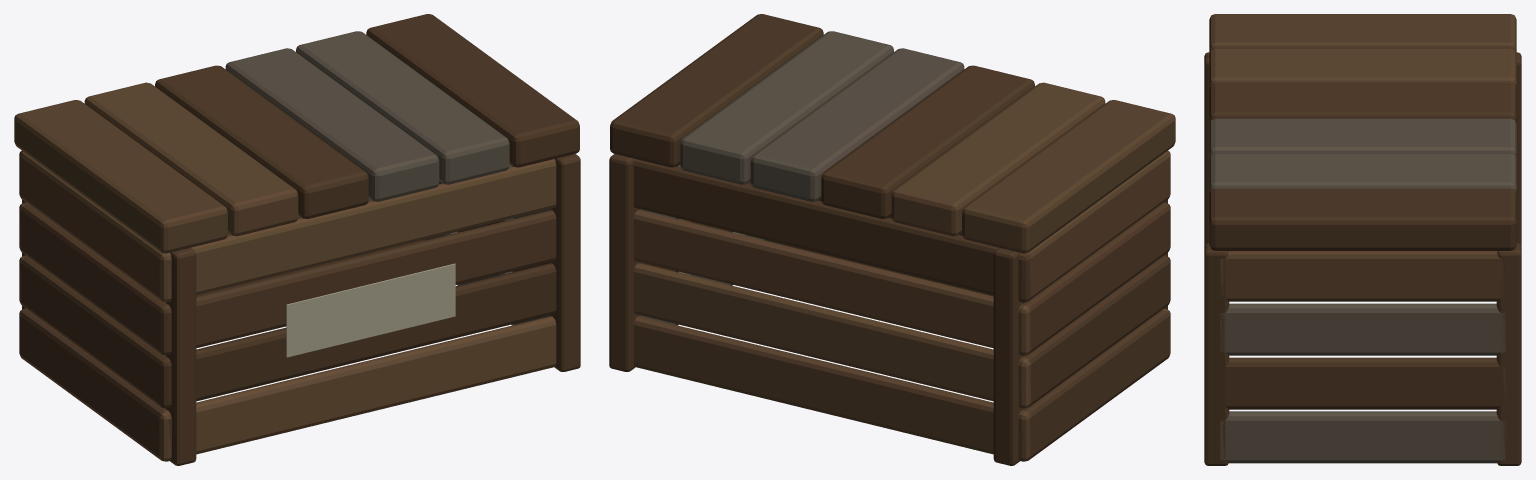
The model's file is supply-crate.glb.
The picture shows the model from 3 angles, left to right: view 1: azimuth 30°, elevation 25°; view 2: azimuth 150°, elevation 25°; view 3: azimuth 270°, elevation 25°; orthographic projection.
Visible parts, largest first — view 1: supply-crate, supply-crate-lid; view 2: supply-crate, supply-crate-lid; view 3: supply-crate-lid, supply-crate.
Part boxes in pixels (box(x1,y1,x2,y2)): supply-crate: box(19, 150, 580, 465); supply-crate-lid: box(14, 14, 579, 253); supply-crate: box(609, 150, 1170, 465); supply-crate-lid: box(610, 14, 1175, 253); supply-crate-lid: box(1209, 14, 1516, 250); supply-crate: box(1204, 52, 1521, 465).
Bounding box in the file's own units: 0.992 × 0.555 × 0.64.
